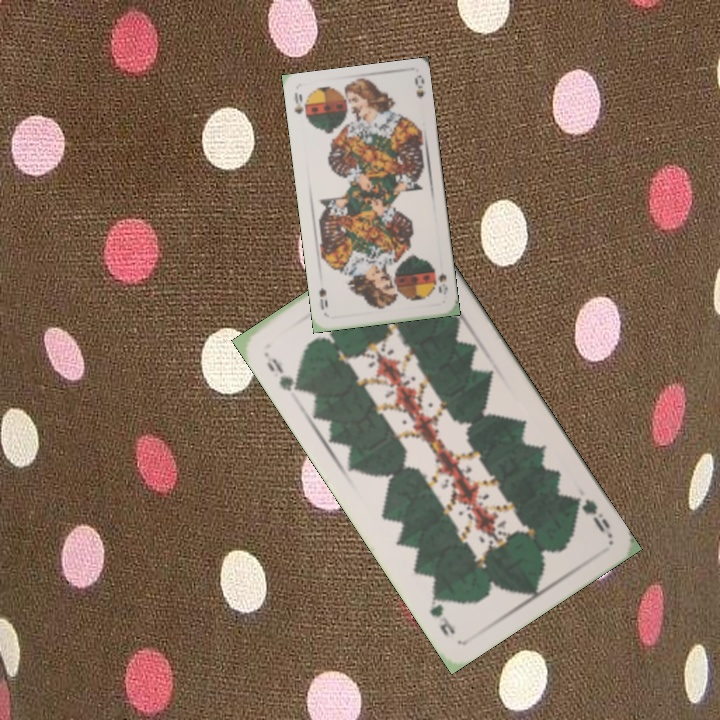G9: (568, 492, 615, 539), (260, 347, 305, 394)
SO: (434, 269, 450, 297), (290, 89, 306, 117)
